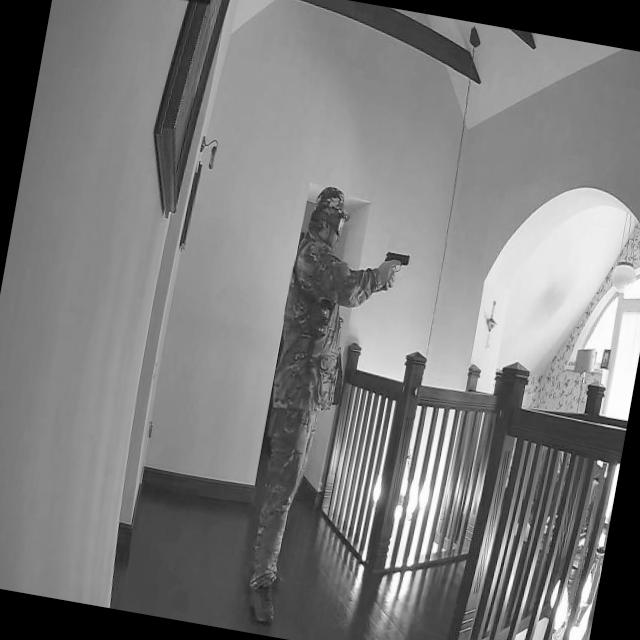gun: (377, 244, 412, 293)
person with a gun: (231, 180, 424, 640)
